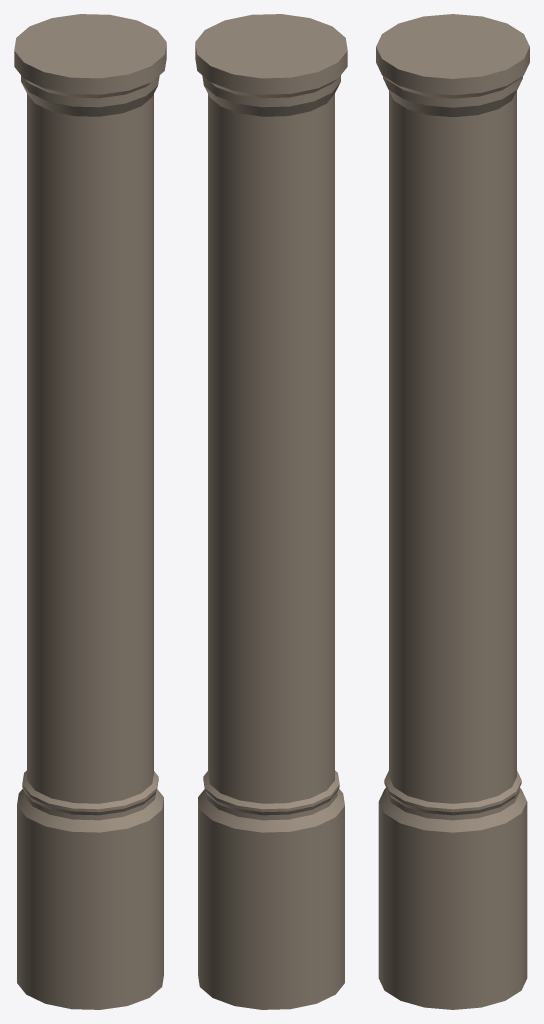
Rendered from BC_InsidePillar_I.fbx.
3 views of the same model, side by side, from view 1: azimuth 30°, elevation 25°; view 2: azimuth 150°, elevation 25°; view 3: azimuth 270°, elevation 25° (orthographic).
Visible parts, largest first — view 1: BC_InsidePillar_I; view 2: BC_InsidePillar_I; view 3: BC_InsidePillar_I.
Boxes of the visible parts, x1,y1,x2,y2 form: BC_InsidePillar_I: [14, 14, 166, 1009]; BC_InsidePillar_I: [195, 14, 347, 1009]; BC_InsidePillar_I: [376, 14, 529, 1009].
Bounding box in the file's own units: 29.13 × 195 × 29.13.
